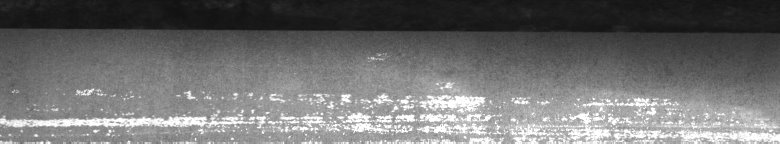kb: (4, 28, 724, 136)
